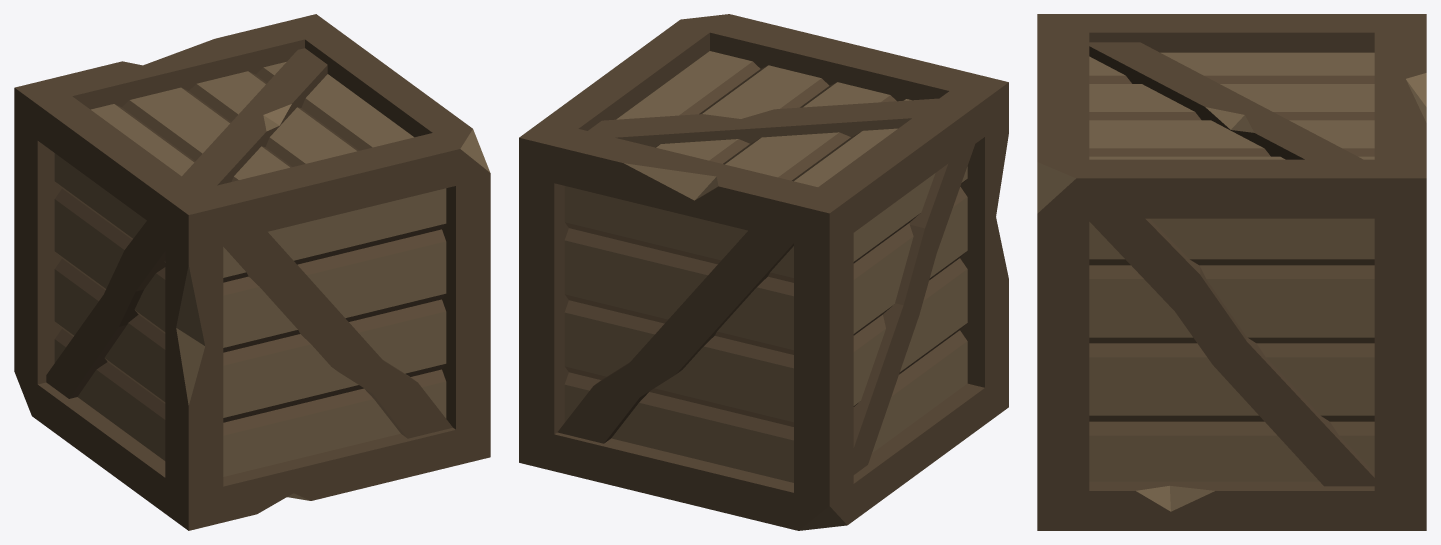
File: SM_Prop_Crate_01.fbx
The picture shows the model from 3 angles, left to right: view 1: azimuth 30°, elevation 25°; view 2: azimuth 150°, elevation 25°; view 3: azimuth 270°, elevation 25°; orthographic projection. The views are drawn at different scales.
Visible parts, largest first — view 1: SM_Prop_Crate_01; view 2: SM_Prop_Crate_01; view 3: SM_Prop_Crate_01.
Part boxes in pixels (box(x1,y1,x2,y2)): SM_Prop_Crate_01: box(14, 14, 490, 530); SM_Prop_Crate_01: box(519, 14, 1008, 530); SM_Prop_Crate_01: box(1037, 14, 1426, 530).
Bounding box in the file's own units: 0.00767 × 0.00767 × 0.00767.
1 material, 1 textured.
